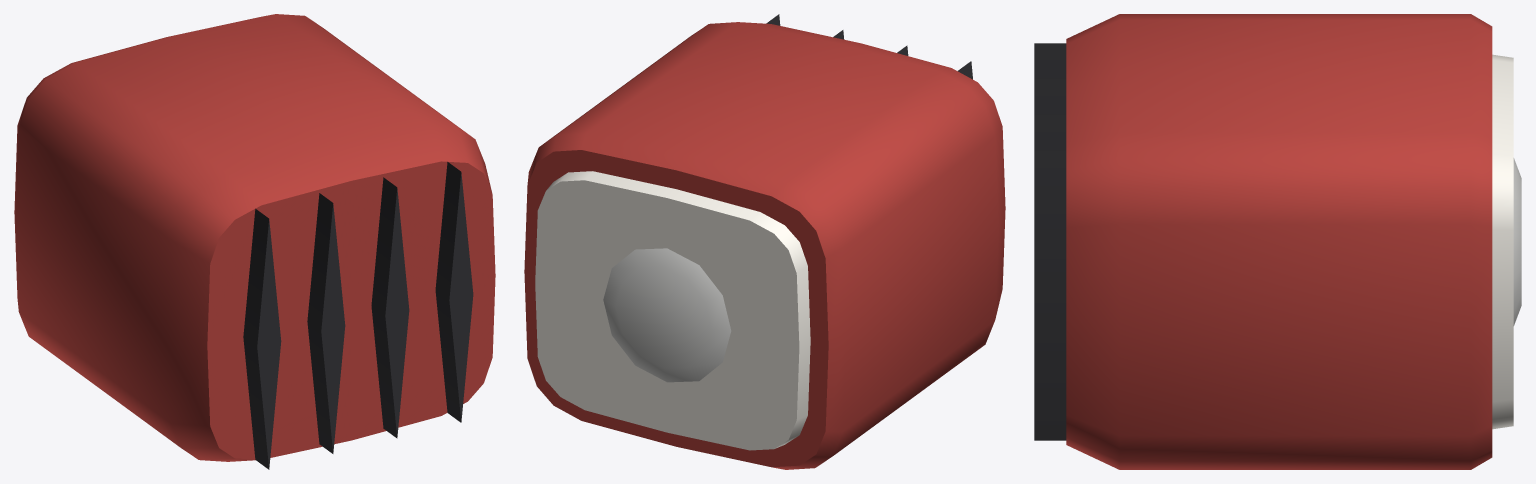
The model's file is cell.glb.
3 views of the same model, side by side, from view 1: azimuth 30°, elevation 25°; view 2: azimuth 150°, elevation 25°; view 3: azimuth 270°, elevation 25° (orthographic). The views are drawn at different scales.
Parts seen in each view (by area): view 1: lod0; view 2: lod0; view 3: lod0.
Part boxes in pixels (x1,y1,x2,y2): lod0: [14, 14, 495, 469]; lod0: [524, 14, 1005, 469]; lod0: [1034, 14, 1521, 469].
Size of what is drawn, in the model's own units: 0.08 by 0.07 by 0.0915.
